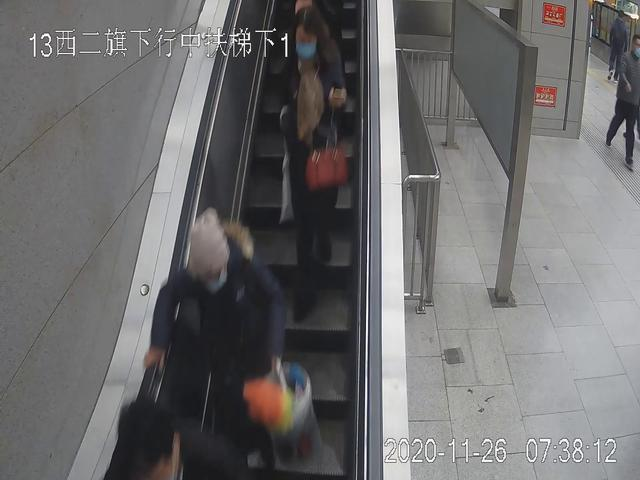person: (141, 209, 287, 480), (280, 11, 353, 323)
